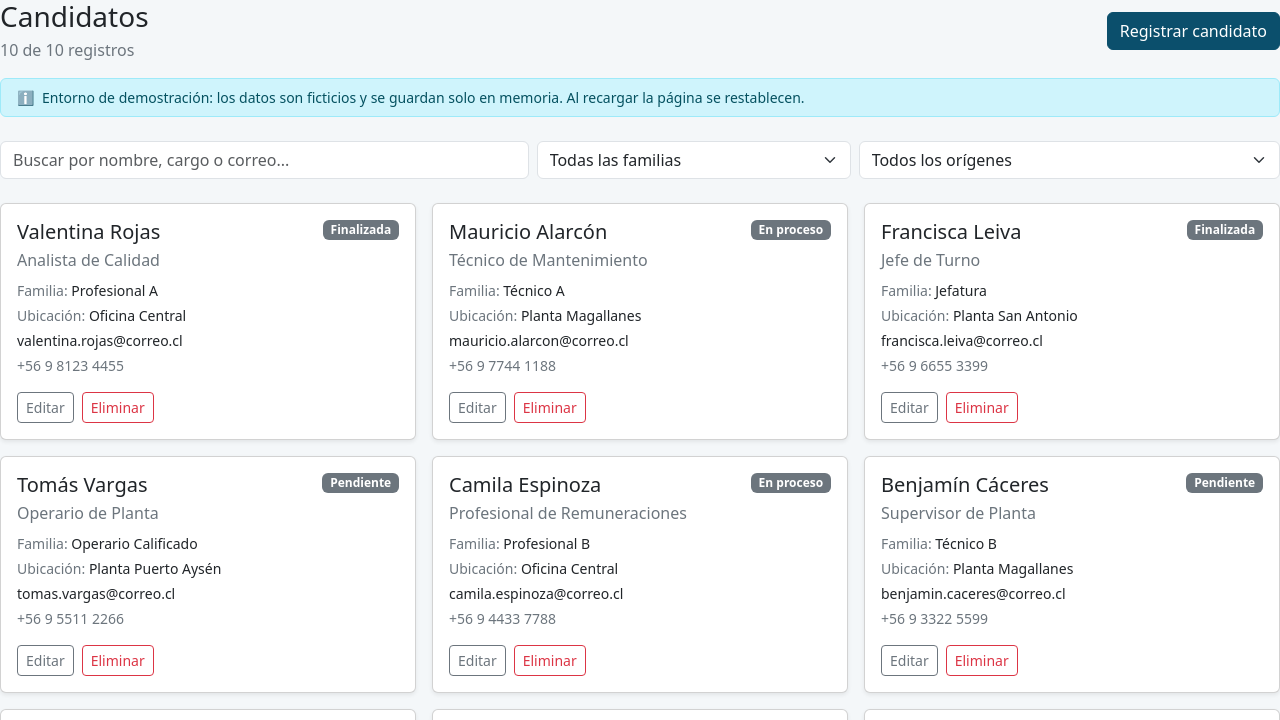
Test: CandidatosPage › cancela la eliminación desde el diálogo
Click the button "Eliminar" below "+56 9 8123 4455" at (118, 407), box x1=82 y1=392 x2=154 y2=423
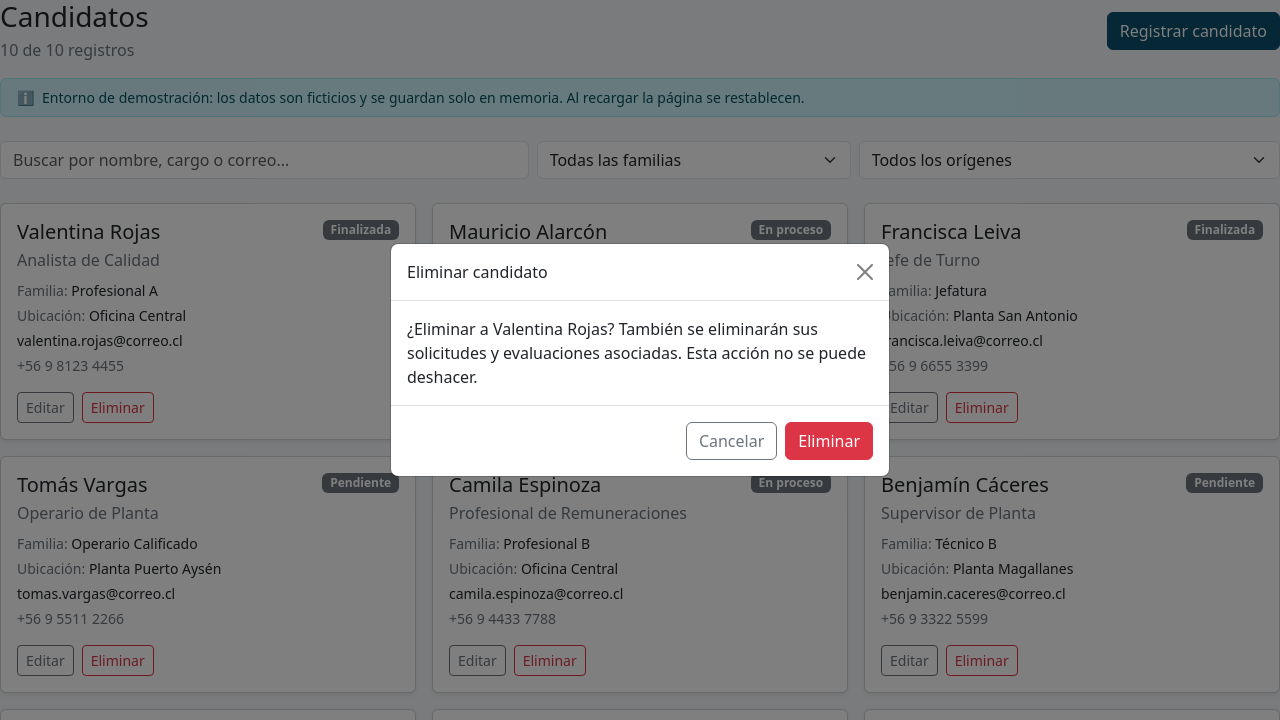
Click the button "Cancelar" at (732, 441), box x1=686 y1=422 x2=777 y2=460
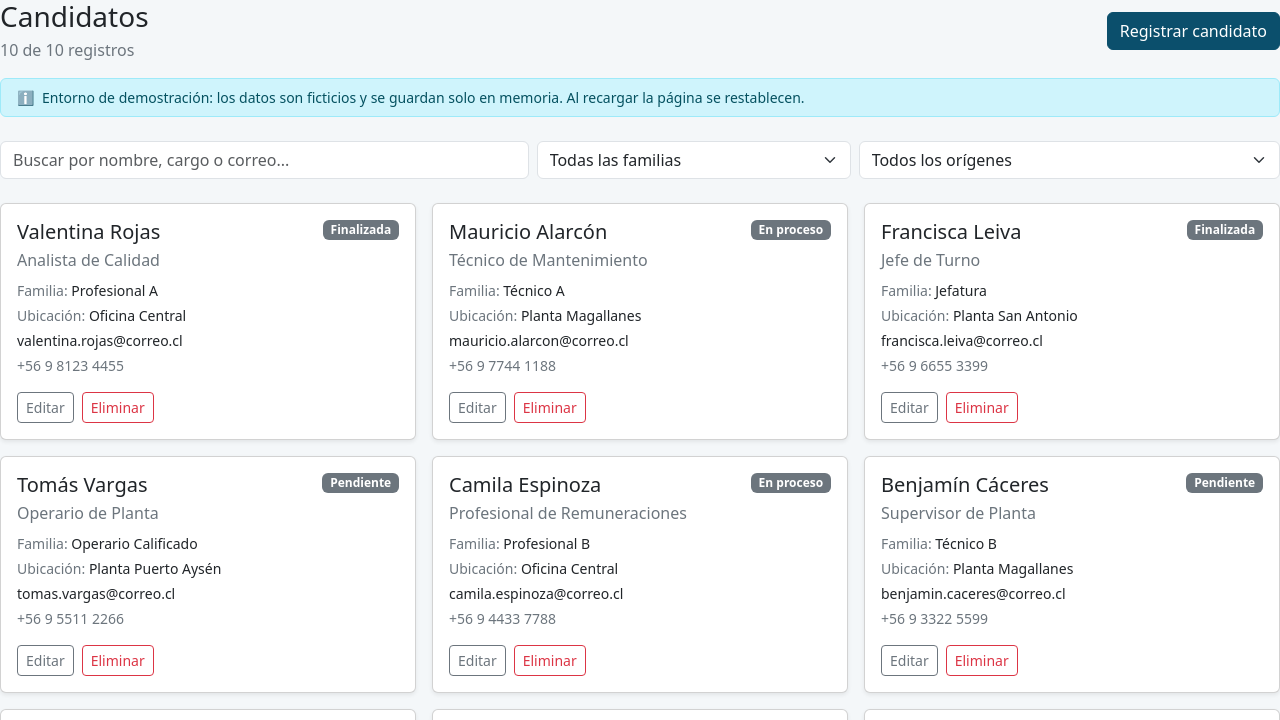
Expected: the heading "Valentina Rojas" is shown, x1=17 y1=220 x2=160 y2=244
Result: the dialog is gone
